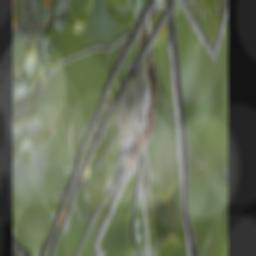Cuckoo: (104, 14, 166, 174)
